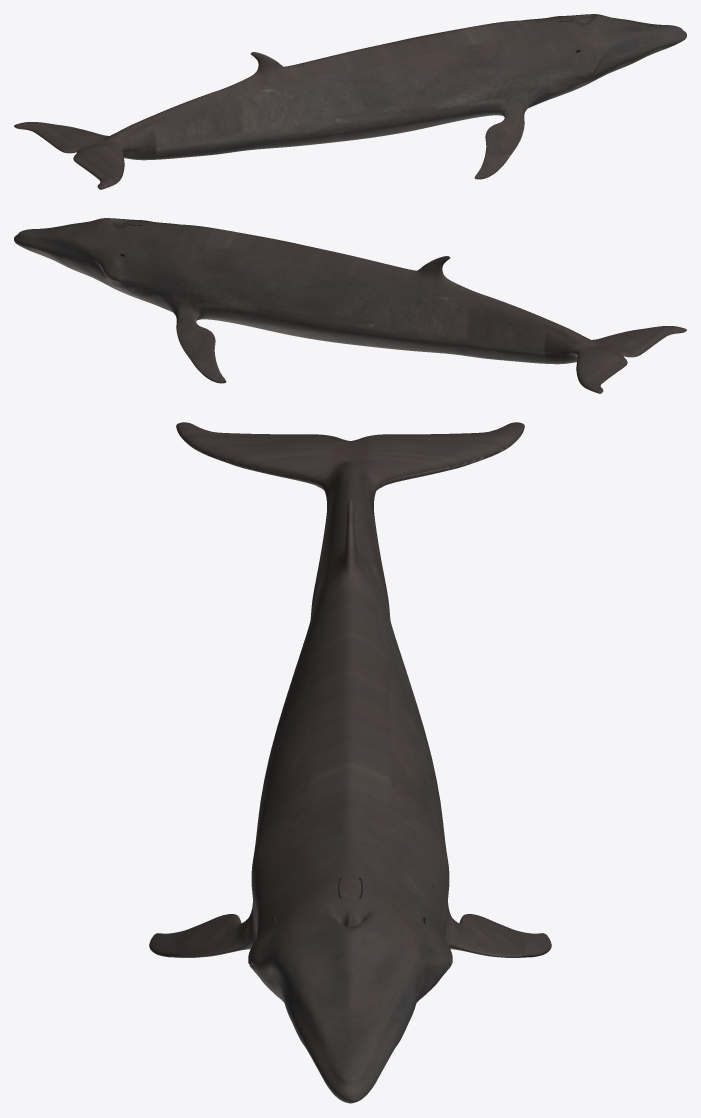
Rendered from model-cetacean-balaenoptera-borealis-v0678.glb.
3 renders of one model, top to bottom at view 1: azimuth 30°, elevation 25°; view 2: azimuth 150°, elevation 25°; view 3: azimuth 270°, elevation 25°, orthographic. The views are drawn at different scales.
Visible parts, largest first — view 1: balaenoptera-borealis licensed source body; view 2: balaenoptera-borealis licensed source body; view 3: balaenoptera-borealis licensed source body.
Part boxes in pixels (<box>): balaenoptera-borealis licensed source body: <box>14,14,686,189</box>; balaenoptera-borealis licensed source body: <box>14,218,686,393</box>; balaenoptera-borealis licensed source body: <box>149,422,551,1103</box>.
Bounding box in the file's own units: 3.84 × 0.7834 × 1.06.
3 materials, 1 textured.
